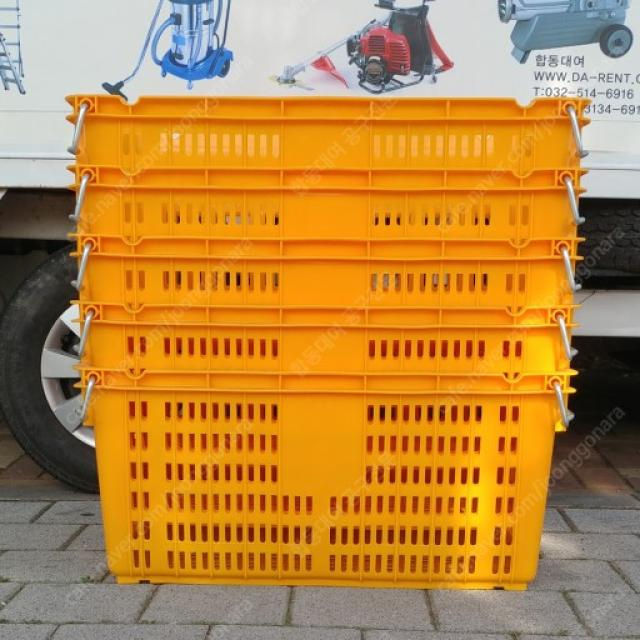basket: (65, 95, 588, 591)
